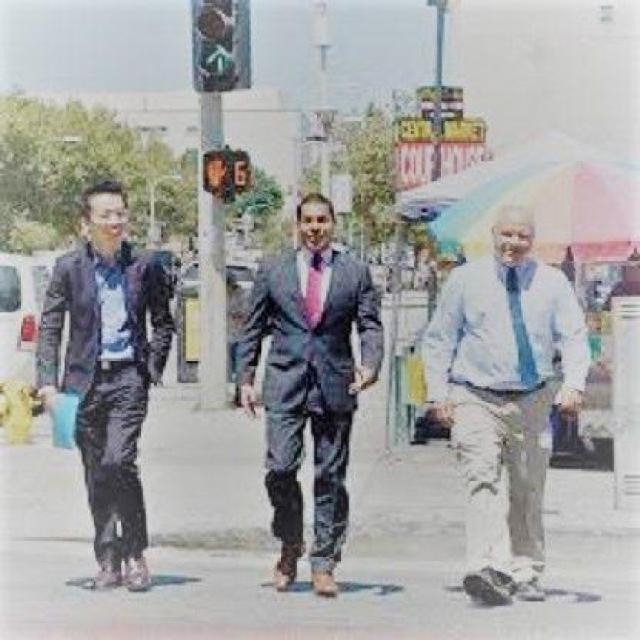Person: (428, 209, 588, 608), (236, 190, 384, 602), (34, 184, 178, 594)
